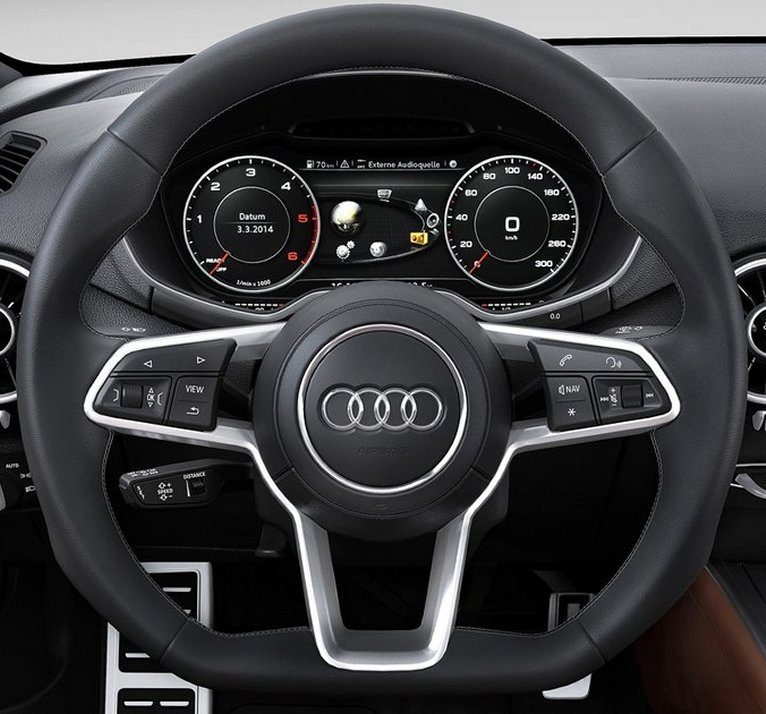audi: (317, 377, 452, 441)
